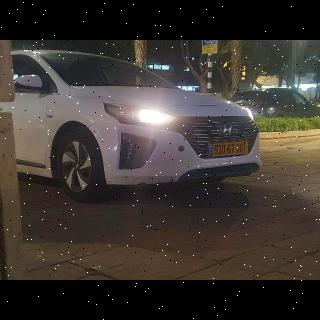LicensePlate: (212, 141, 249, 157)
